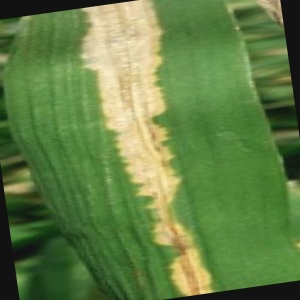Leaf_Blast: (24, 0, 285, 299)
